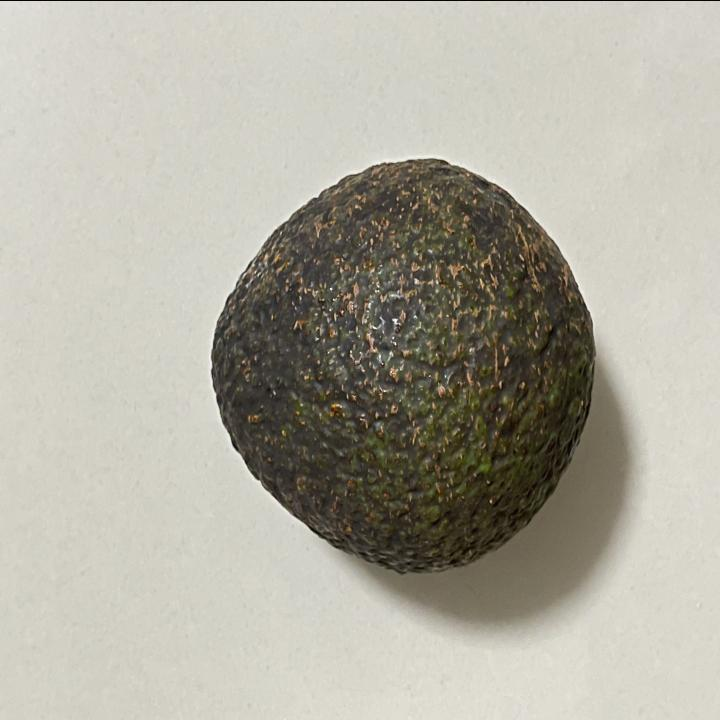Level1: (197, 133, 604, 591)
